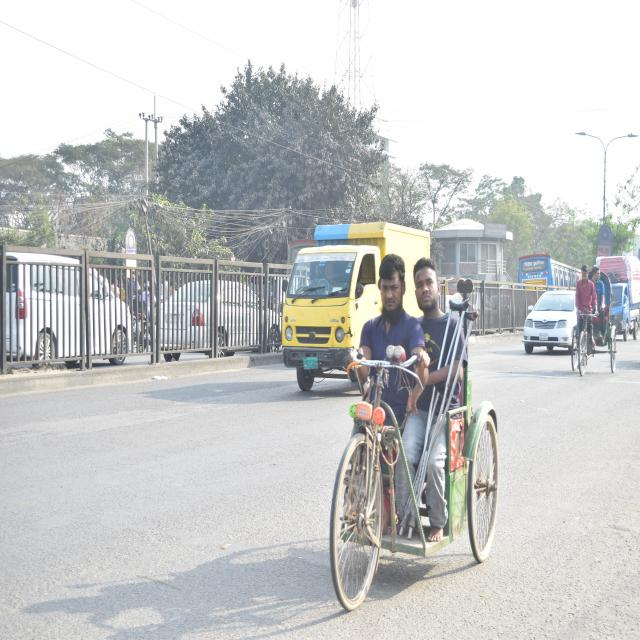bus: (516, 250, 586, 286)
car: (4, 246, 135, 368), (156, 274, 281, 366), (522, 284, 581, 352)
pickup-van: (284, 220, 435, 393), (597, 250, 640, 348)
